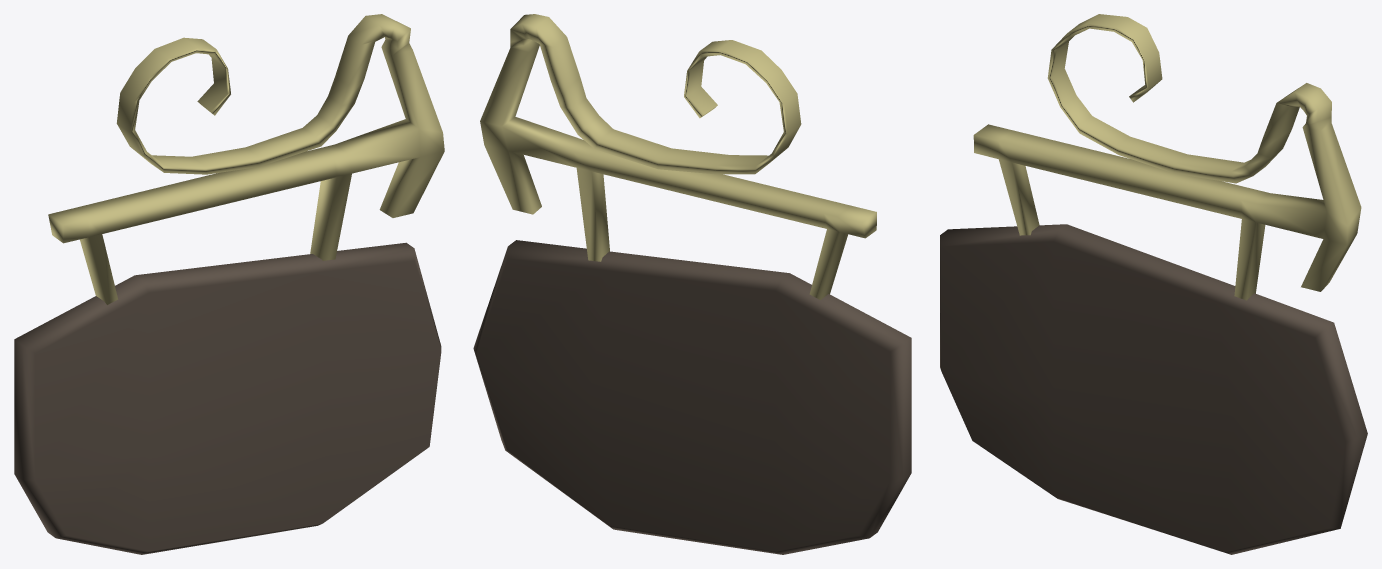
Rendered from ChezLucien.fbx.
The picture shows the model from 3 angles, left to right: view 1: azimuth 30°, elevation 25°; view 2: azimuth 150°, elevation 25°; view 3: azimuth 330°, elevation 25°; orthographic projection. The views are drawn at different scales.
Parts seen in each view (by area): view 1: Panneau, Barre_Metal; view 2: Panneau, Barre_Metal; view 3: Panneau, Barre_Metal.
Boxes of the visible parts, x1,y1,x2,y2 form: Panneau: (14, 242, 441, 554); Barre_Metal: (48, 14, 444, 304); Panneau: (473, 240, 911, 554); Barre_Metal: (480, 14, 876, 299); Panneau: (940, 224, 1367, 554); Barre_Metal: (973, 14, 1361, 300).
Bounding box in the file's own units: 0.6433 × 0.7367 × 0.0574.
